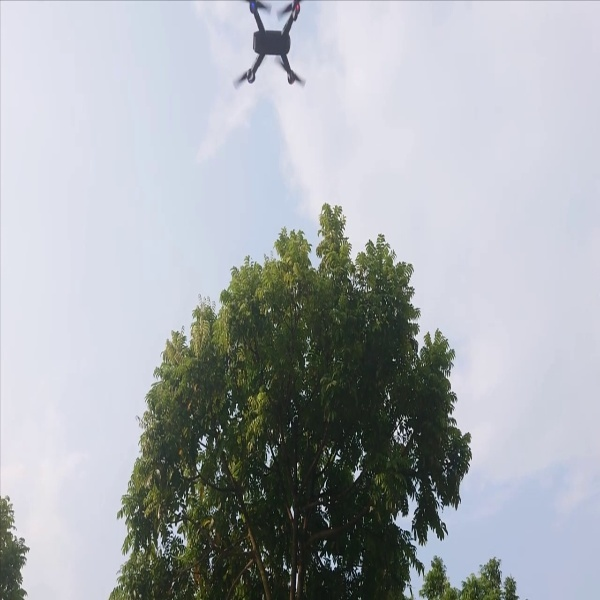drone: (226, 1, 317, 104)
